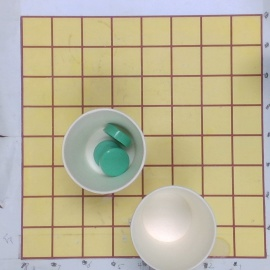cup: (130, 187, 217, 270)
cup_green: (61, 109, 147, 196)
